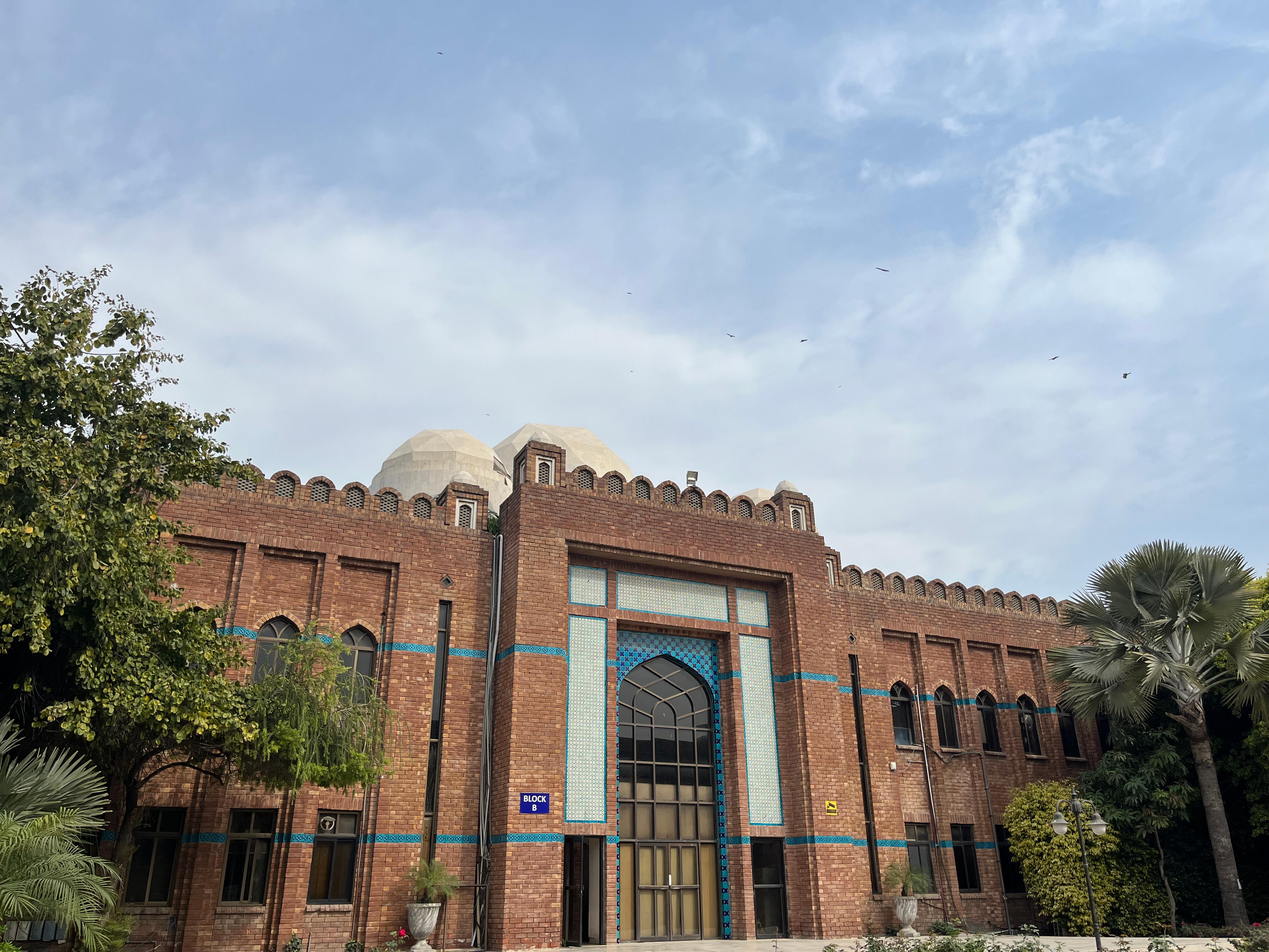Block B: (31, 421, 1255, 949)
